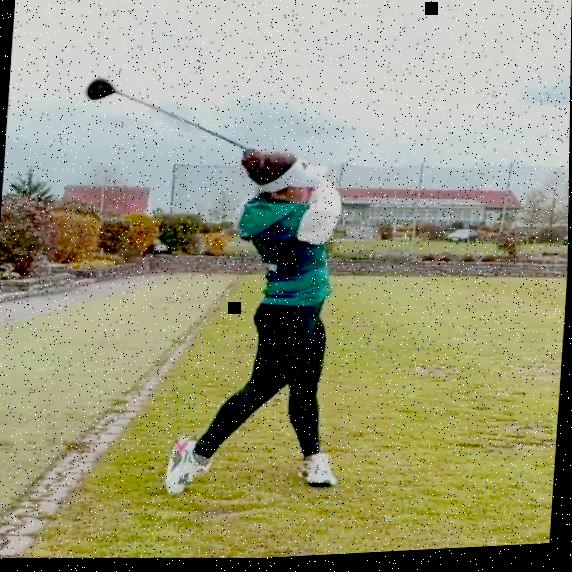ClubHead: (85, 77, 116, 102)
